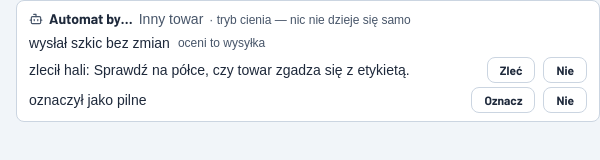
Test: PropozycjePrzeplywu › odmowa serwera dochodzi zdaniem
Click the button "Oznacz" at (503, 100), box [472, 87, 535, 113]
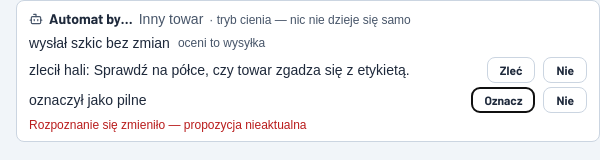
Check: the message shows "Rozpoznanie się zmieniło", box [29, 118, 306, 132]
